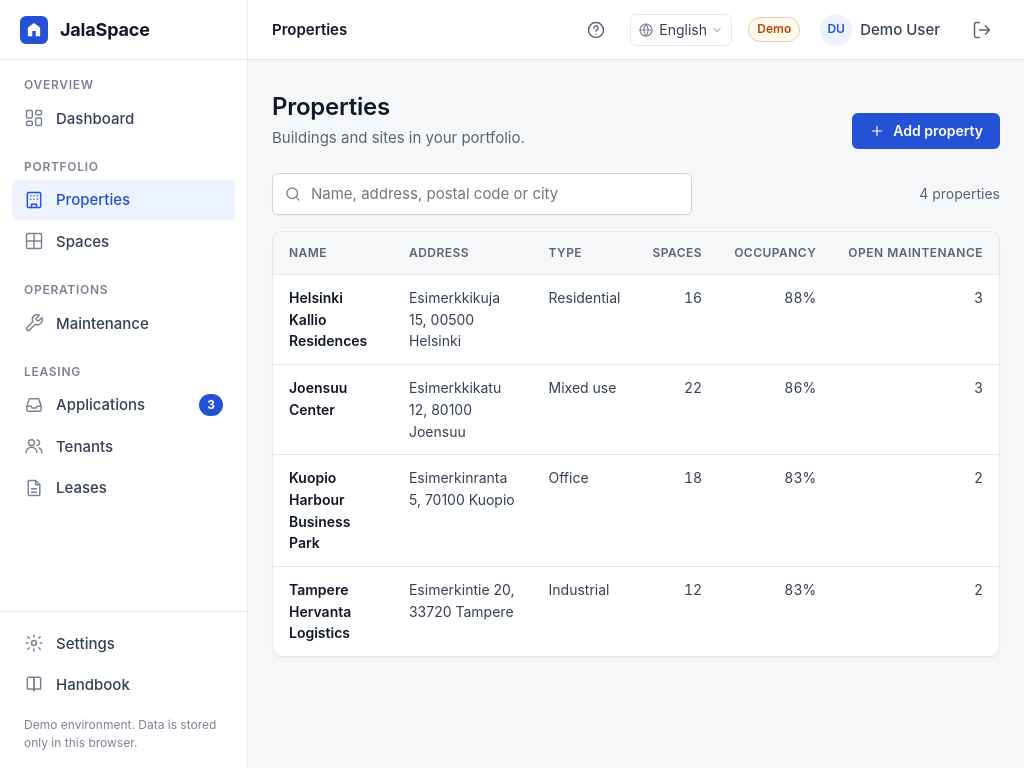
it: properties › searches by city and keeps the search in the URL
Type "kuopio" into the search field named "Search properties".
click(482, 194); type("kuopio")  # box x1=272 y1=173 x2=692 y2=215
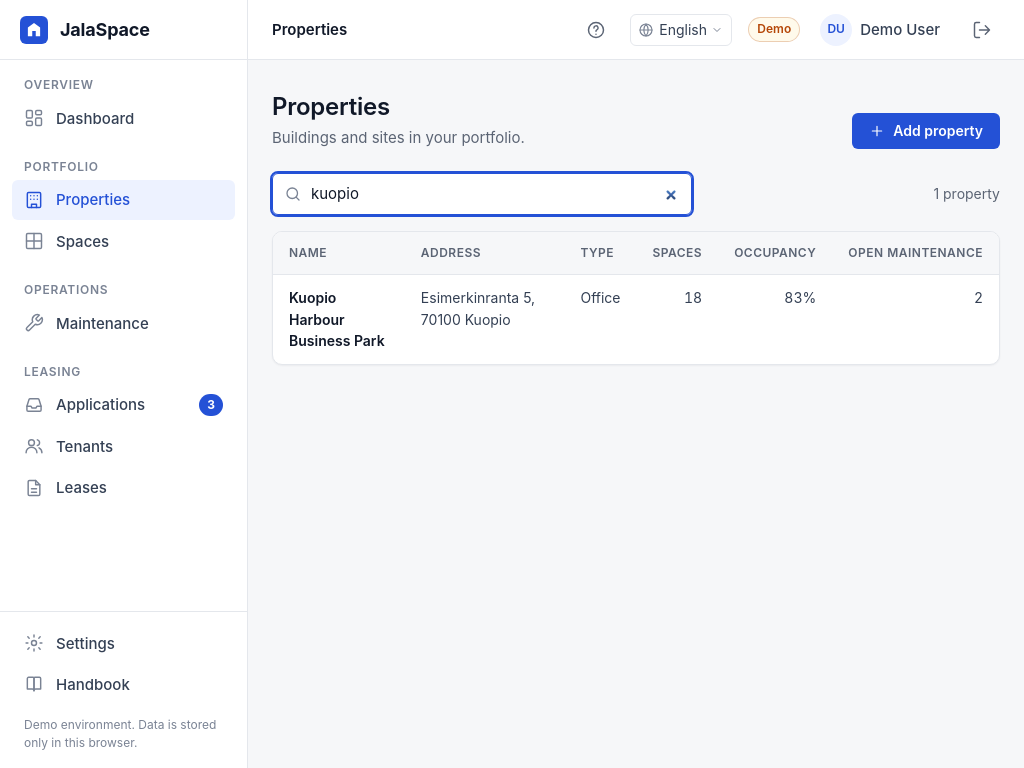
Result: the text "1 property" is shown at x1=933 y1=183 x2=1000 y2=205
